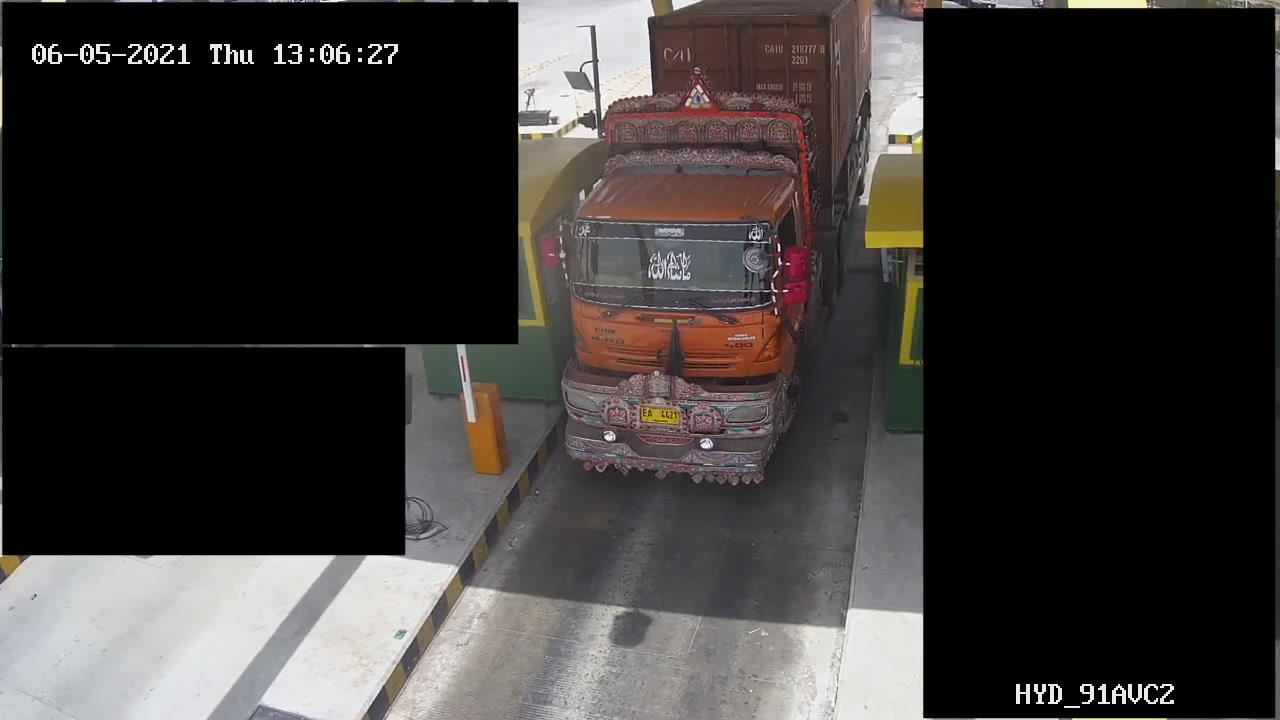F6: (556, 2, 879, 479)
